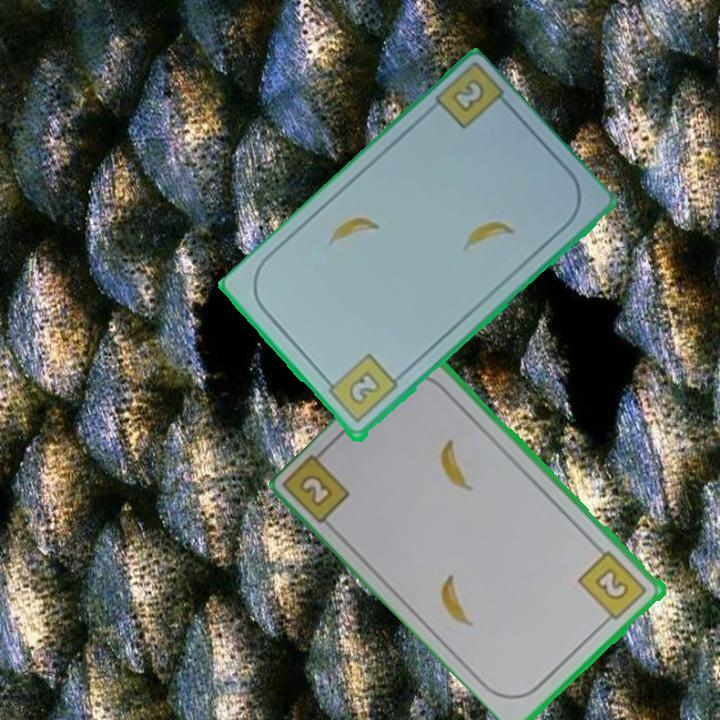2b: (575, 547, 651, 627), (321, 351, 401, 427), (296, 470, 337, 510), (448, 76, 488, 116)
